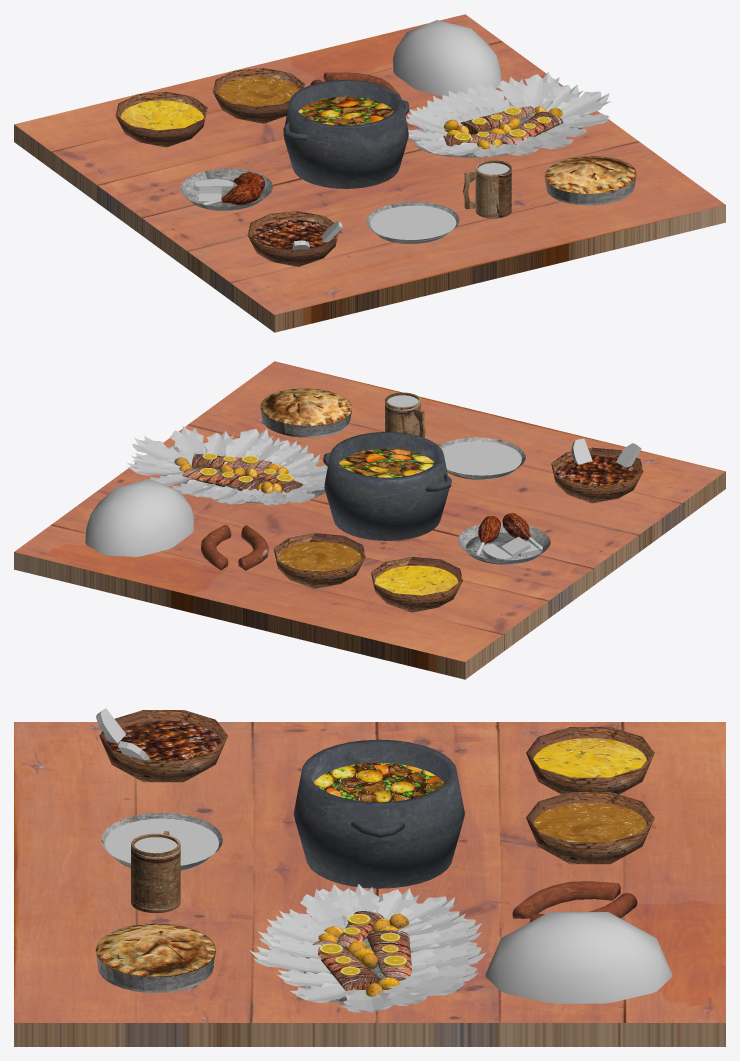
Rendered from food.fbx.
The picture shows the model from 3 angles, top to bottom: view 1: azimuth 30°, elevation 25°; view 2: azimuth 150°, elevation 25°; view 3: azimuth 270°, elevation 25°; orthographic projection. The views are drawn at different scales.
Parts seen in each view (by area): view 1: stol, lonac, salata, kruh, pita, spagete, zdjela2, bokal, supa3, zdjela3, zdjela, supa2 (+10 smaller); view 2: stol, lonac, salata, kruh, pita, spagete, zdjela, zdjela2, supa3, supa2, riba, supa (+11 smaller); view 3: stol, lonac, salata, kruh, pita, zdjela, supa3, zdjela3, zdjela2, supa, supa2, bokal (+11 smaller).
Boxes of the visible parts, <box> form: stol: <box>14,14,725,332</box>; lonac: <box>283,80,409,188</box>; salata: <box>406,72,610,157</box>; kruh: <box>392,20,501,96</box>; pita: <box>545,156,635,193</box>; spagete: <box>370,205,456,241</box>; zdjela2: <box>115,91,207,147</box>; bokal: <box>463,160,511,218</box>; supa3: <box>298,96,393,125</box>; zdjela3: <box>247,211,338,266</box>; zdjela: <box>213,68,304,123</box>; supa2: <box>120,100,203,130</box>; stol: <box>14,361,725,679</box>; lonac: <box>323,432,451,540</box>; salata: <box>127,426,327,505</box>; kruh: <box>85,479,194,556</box>; pita: <box>261,388,351,425</box>; spagete: <box>442,441,521,476</box>; zdjela: <box>273,533,365,588</box>; zdjela2: <box>371,557,462,612</box>; supa3: <box>339,448,434,477</box>; supa2: <box>374,565,458,595</box>; riba: <box>182,453,303,492</box>; supa: <box>278,541,361,571</box>; stol: <box>14,722,725,1046</box>; lonac: <box>293,739,464,888</box>; salata: <box>249,884,486,1012</box>; kruh: <box>485,912,672,1003</box>; pita: <box>96,923,215,977</box>; zdjela: <box>526,792,654,864</box>; supa3: <box>313,762,444,802</box>; zdjela3: <box>99,710,227,782</box>; zdjela2: <box>526,727,654,794</box>; supa: <box>533,802,646,842</box>; supa2: <box>533,738,646,777</box>; bokal: <box>131,831,180,912</box>.
Size of the model in its own units: 542 by 90.25 by 528.
